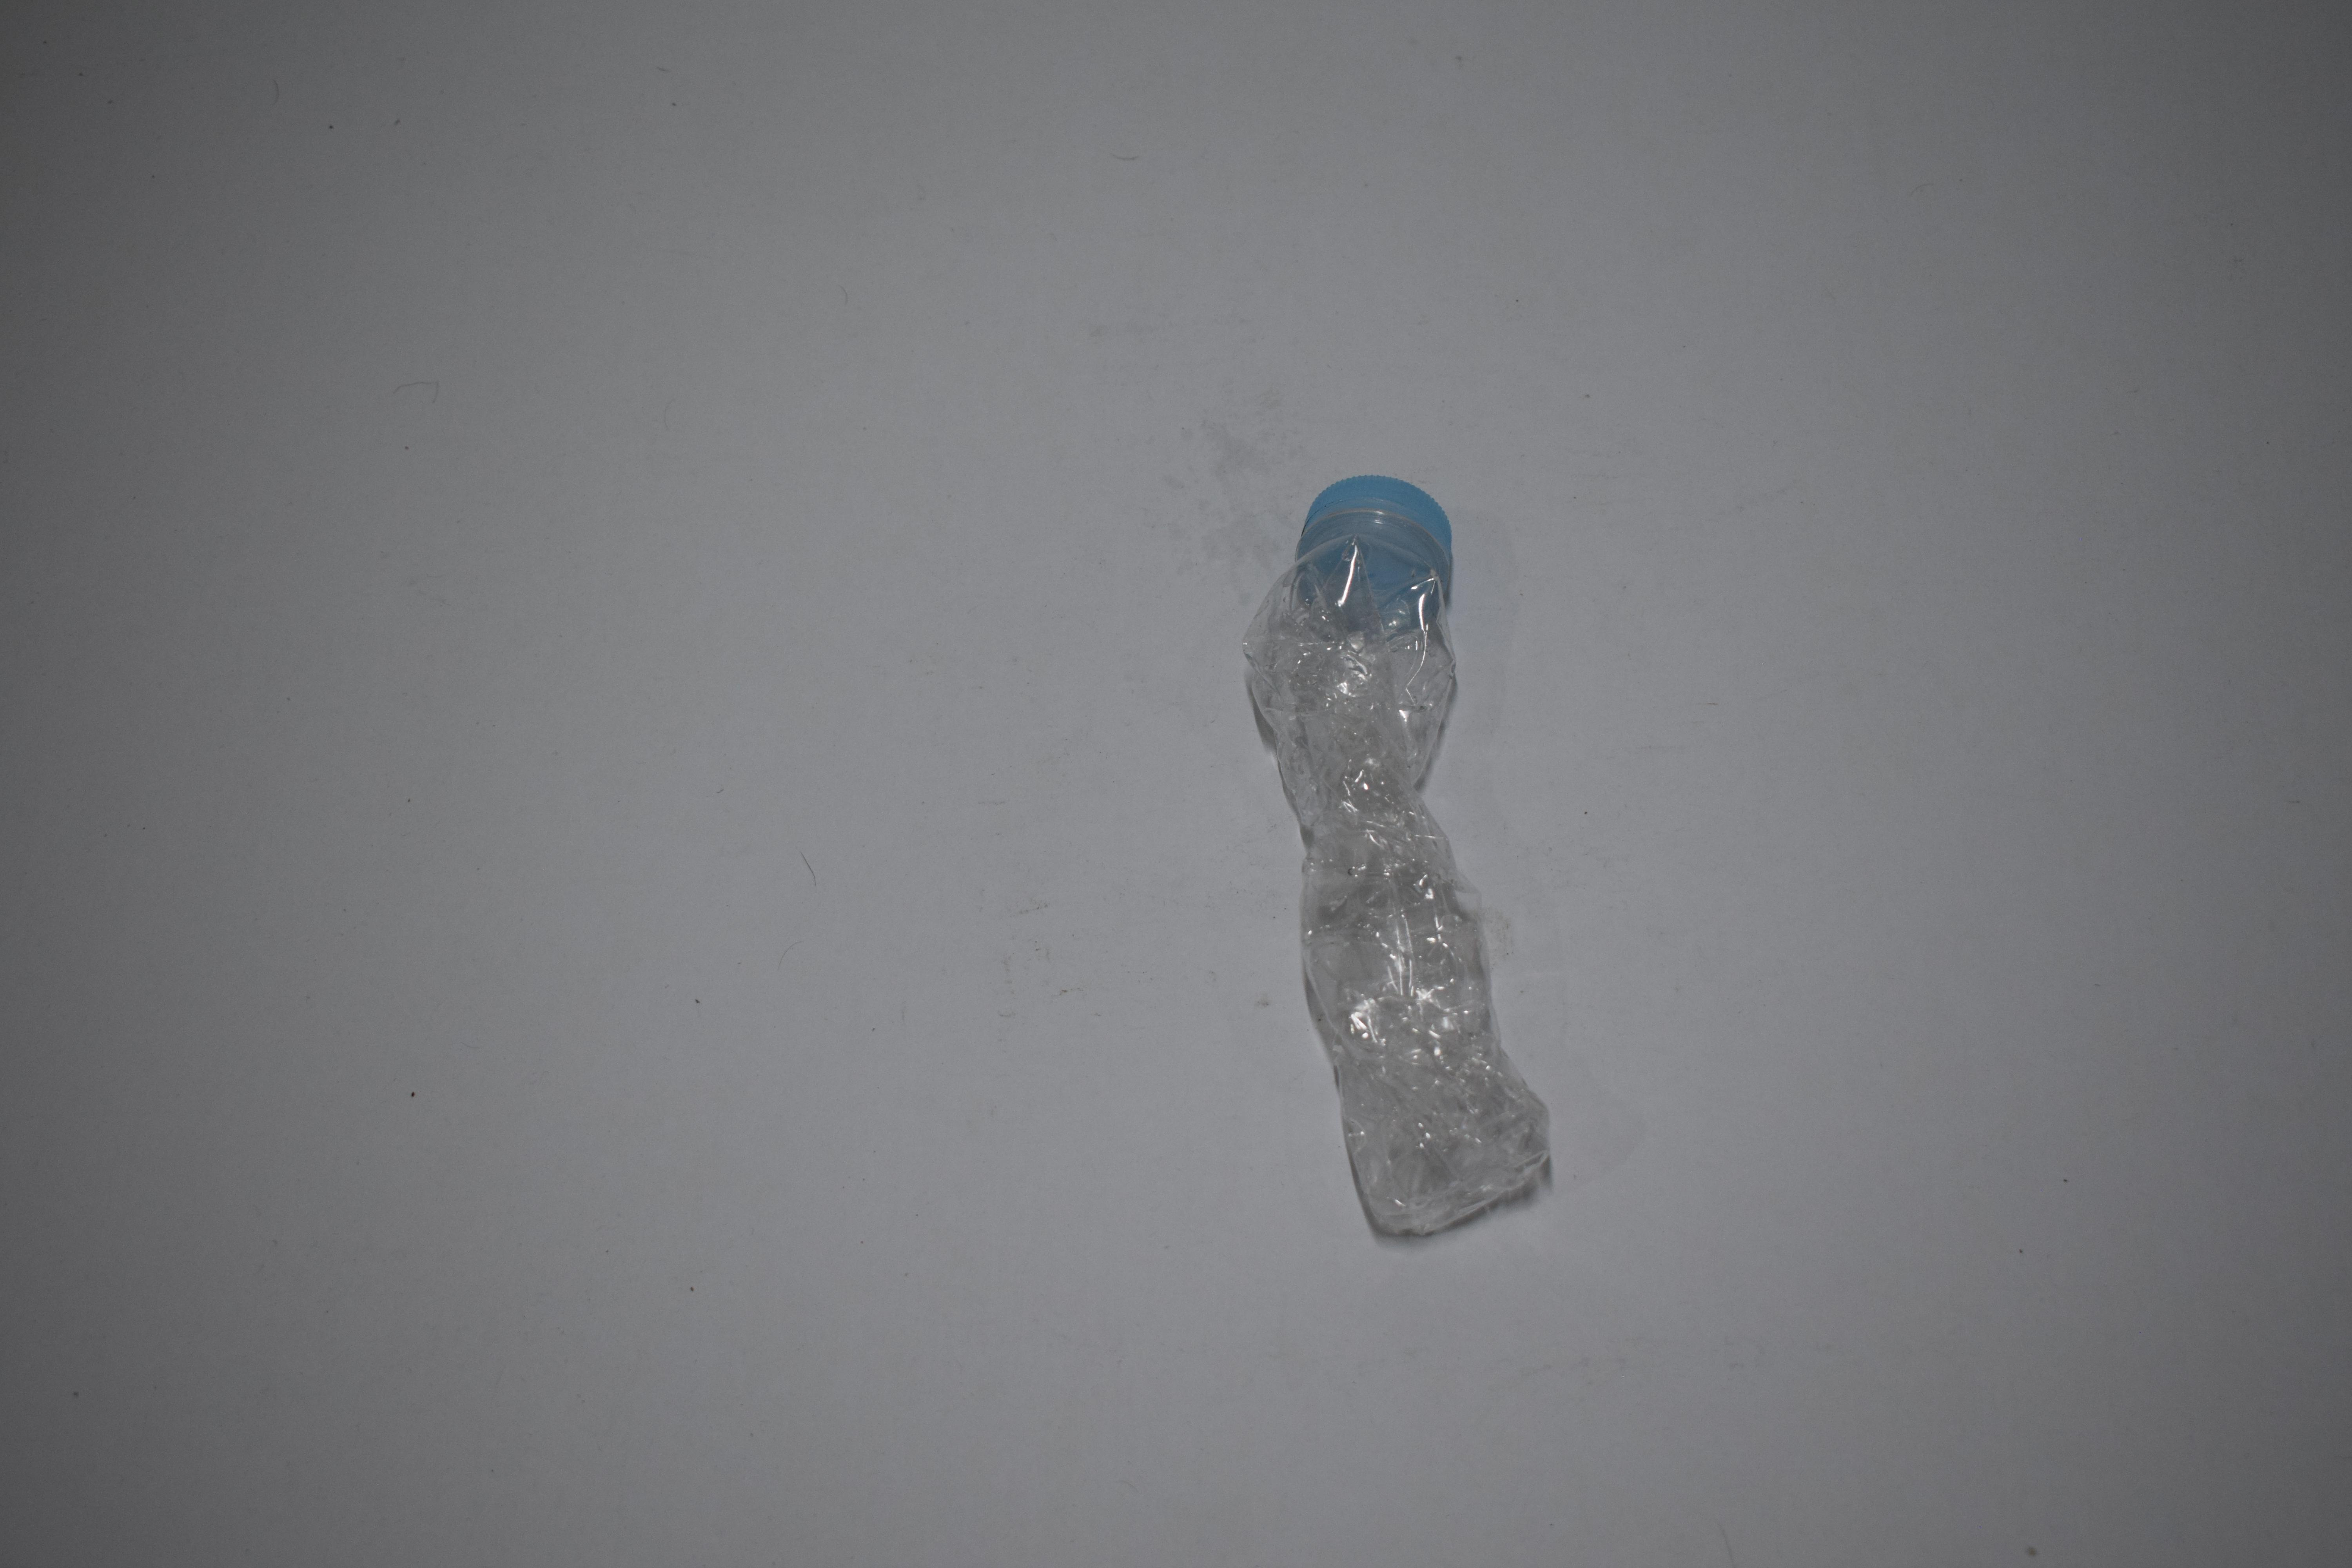bottle: (51, 0, 373, 465)
